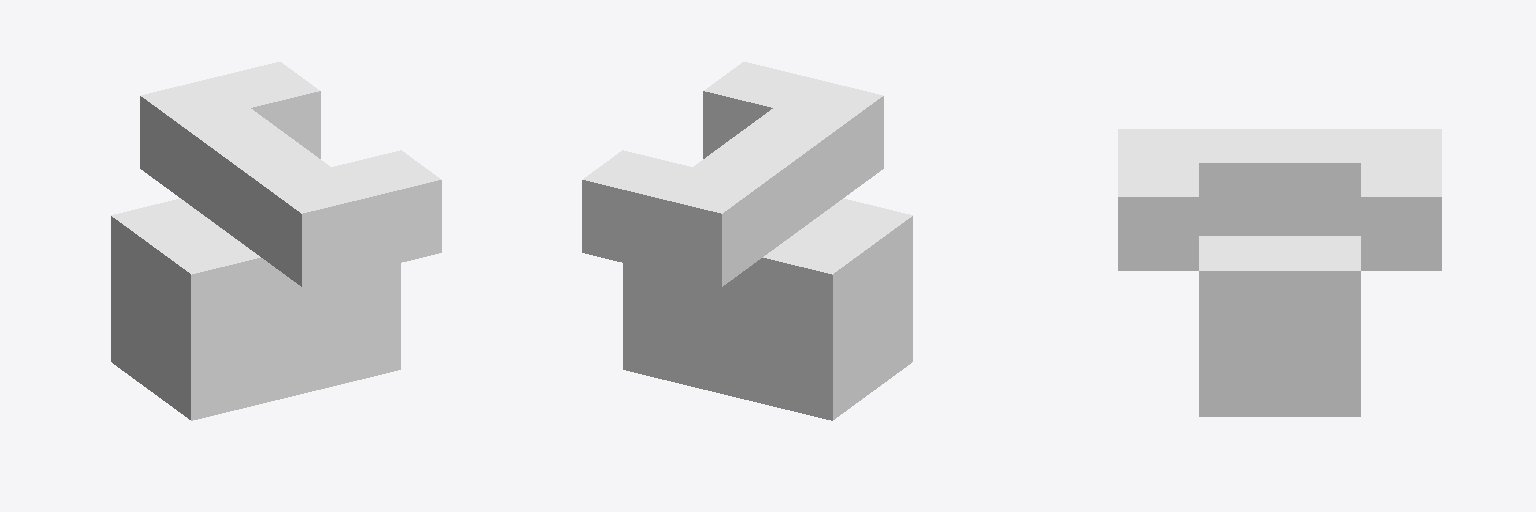
The model's file is Bee.obj.
The picture shows the model from 3 angles: view 1: azimuth 30°, elevation 25°; view 2: azimuth 150°, elevation 25°; view 3: azimuth 270°, elevation 25°; orthographic projection.
Visible parts, largest first — view 1: object 1; view 2: object 1; view 3: object 1.
Part boxes in pixels (x1,y1,x2,y2): object 1: (111, 62, 441, 420); object 1: (582, 62, 912, 420); object 1: (1118, 129, 1441, 416).
Bounding box in the file's own units: 0.3 × 0.3 × 0.4.